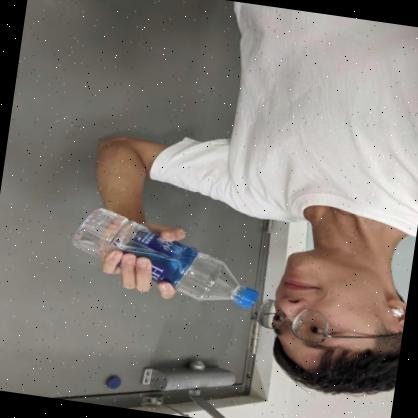bottle: (62, 206, 269, 320)
cap: (228, 282, 262, 313)
label: (106, 227, 204, 295)
